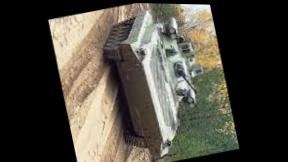tank: (98, 2, 216, 162)
